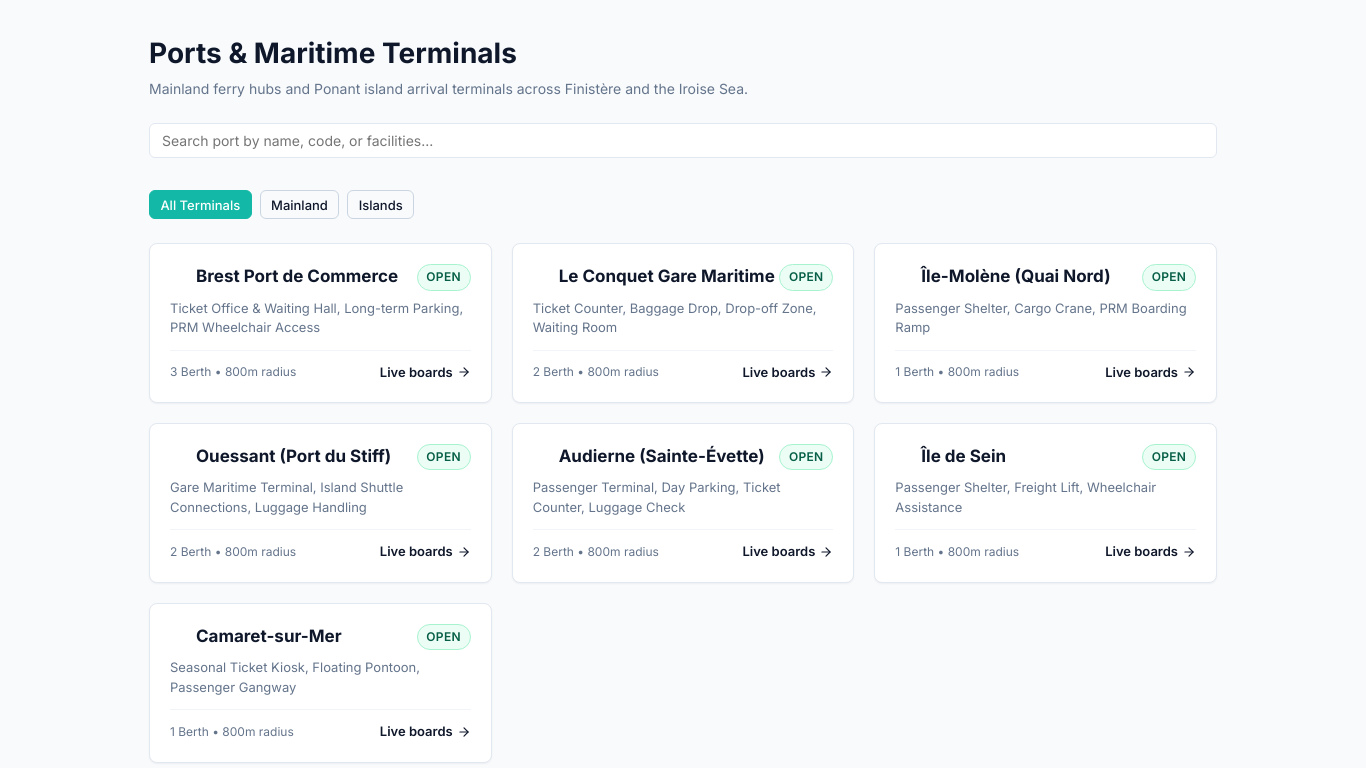
PortsPage Component › filters ports by search input
The image size is (1366, 768).
Type "Ouessant" into the field with placeholder "Search port by name, code, or facilities..." at (683, 140), box [149,123,1217,158]
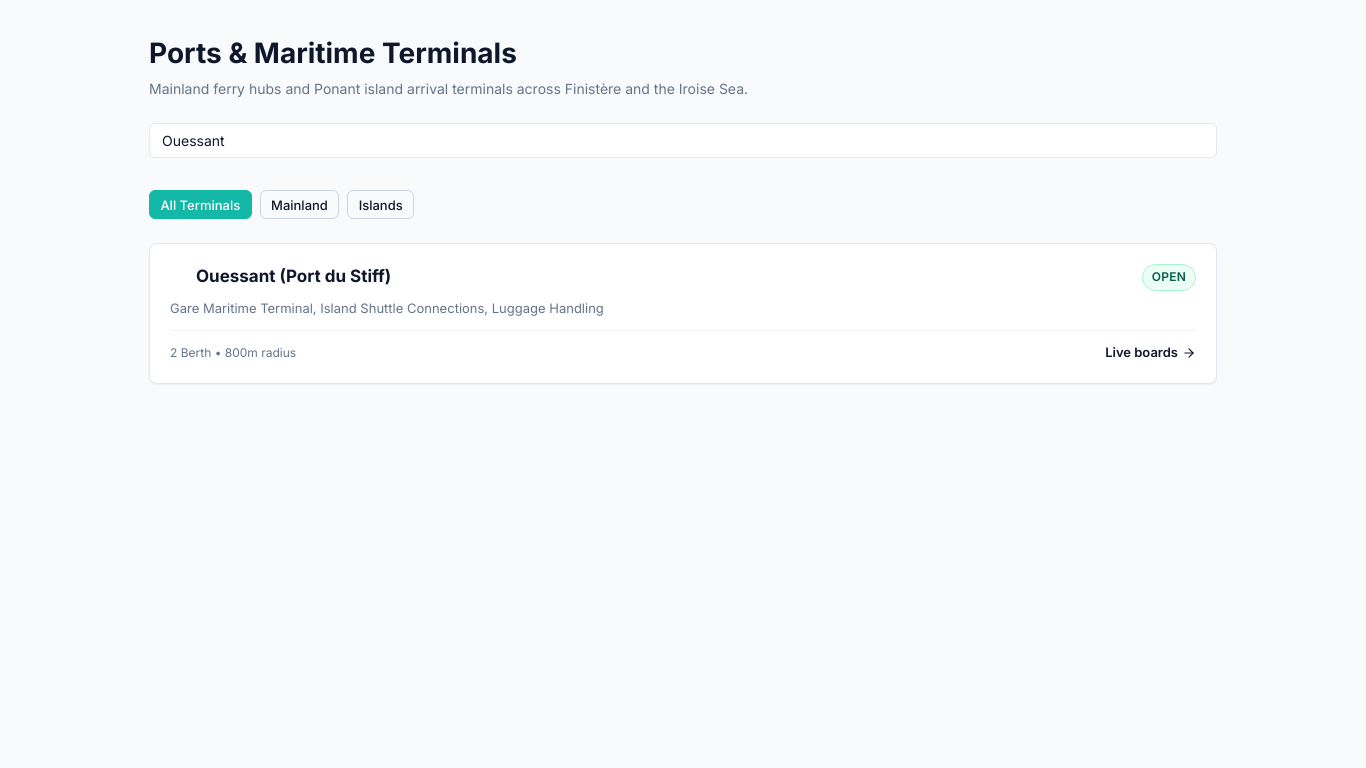
Expected: the heading "Ouessant (Port du Stiff)" is shown, [196,264,391,290]
Expected: the heading "Brest Port de Commerce" is gone
